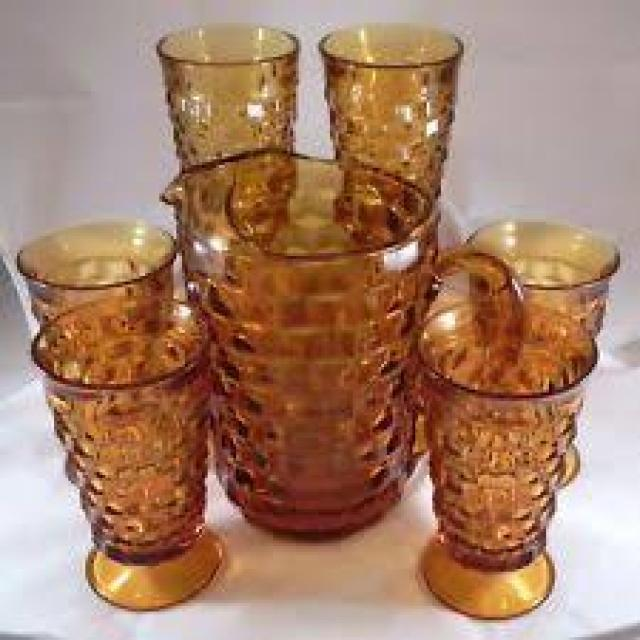Glass: (163, 149, 526, 543), (30, 297, 228, 615), (420, 298, 599, 623), (454, 215, 624, 483), (318, 22, 464, 195), (155, 17, 296, 169), (14, 220, 177, 330)
